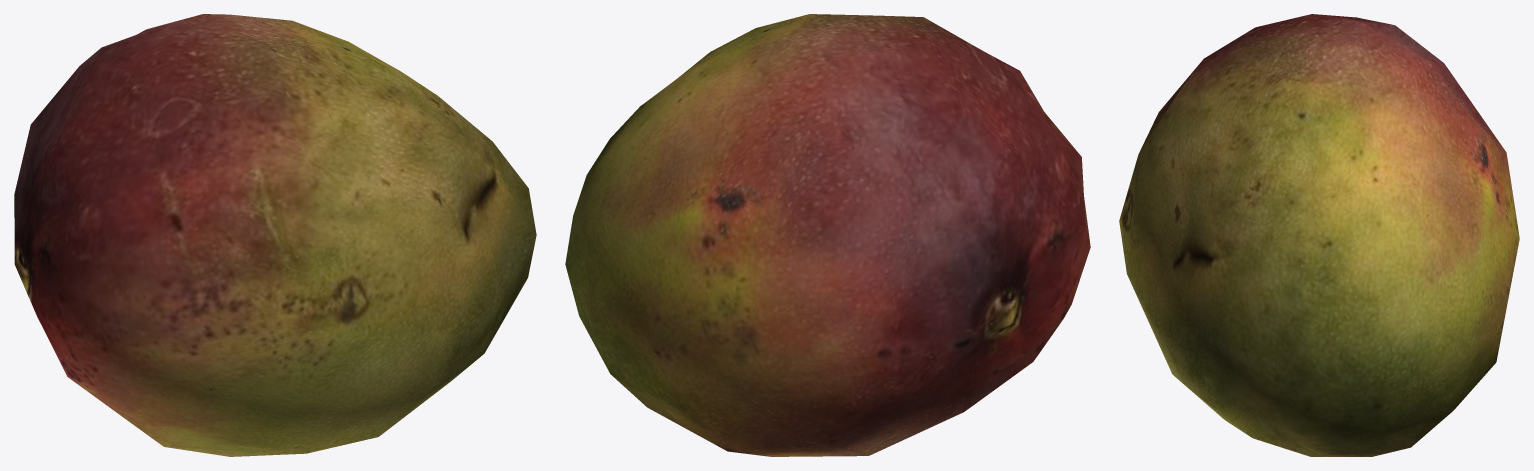
File: A115_Mango_low.fbx
3 views of the same model, side by side, from view 1: azimuth 30°, elevation 25°; view 2: azimuth 150°, elevation 25°; view 3: azimuth 270°, elevation 25° (orthographic). The views are drawn at different scales.
Visible parts, largest first — view 1: A115_Mango_low; view 2: A115_Mango_low; view 3: A115_Mango_low.
Part boxes in pixels (x1,y1,x2,y2): A115_Mango_low: (14, 14, 536, 456); A115_Mango_low: (565, 14, 1090, 456); A115_Mango_low: (1119, 14, 1519, 456).
Size of the model in its own units: 12.01 by 10.01 by 10.2.
Materials: 1 (1 with a texture image).
